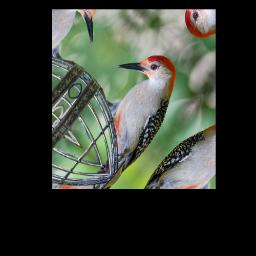Woodpecker: (66, 35, 198, 182)
